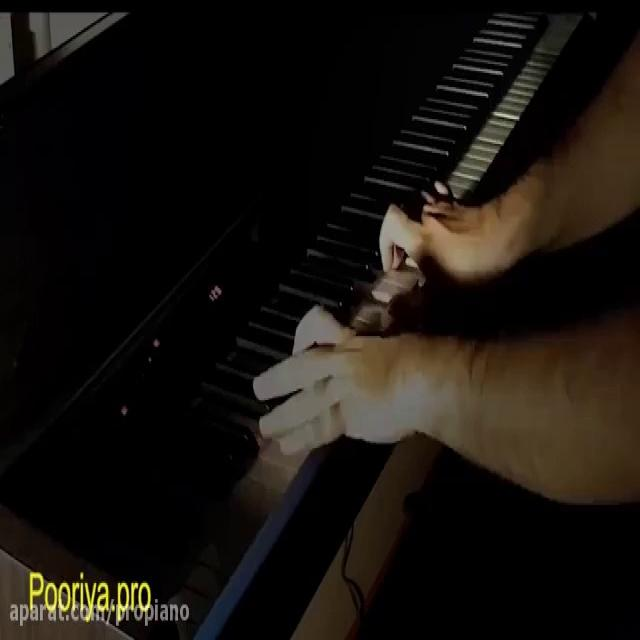Piano: (189, 4, 597, 472)
